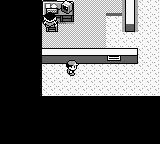leer: (42, 0, 74, 22)
main: (66, 60, 79, 76)
no-caminable: (0, 0, 159, 143), (41, 48, 138, 64), (125, 0, 135, 32)
npc: (43, 13, 57, 28)
